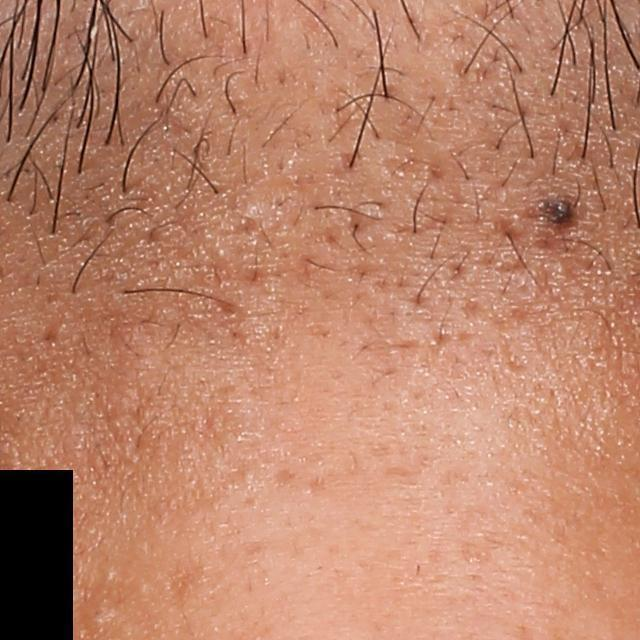comedo: (88, 609, 111, 630)
nevus: (531, 202, 571, 235)
